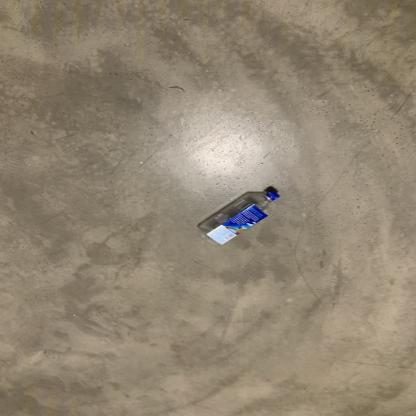trash: (193, 183, 281, 253)
